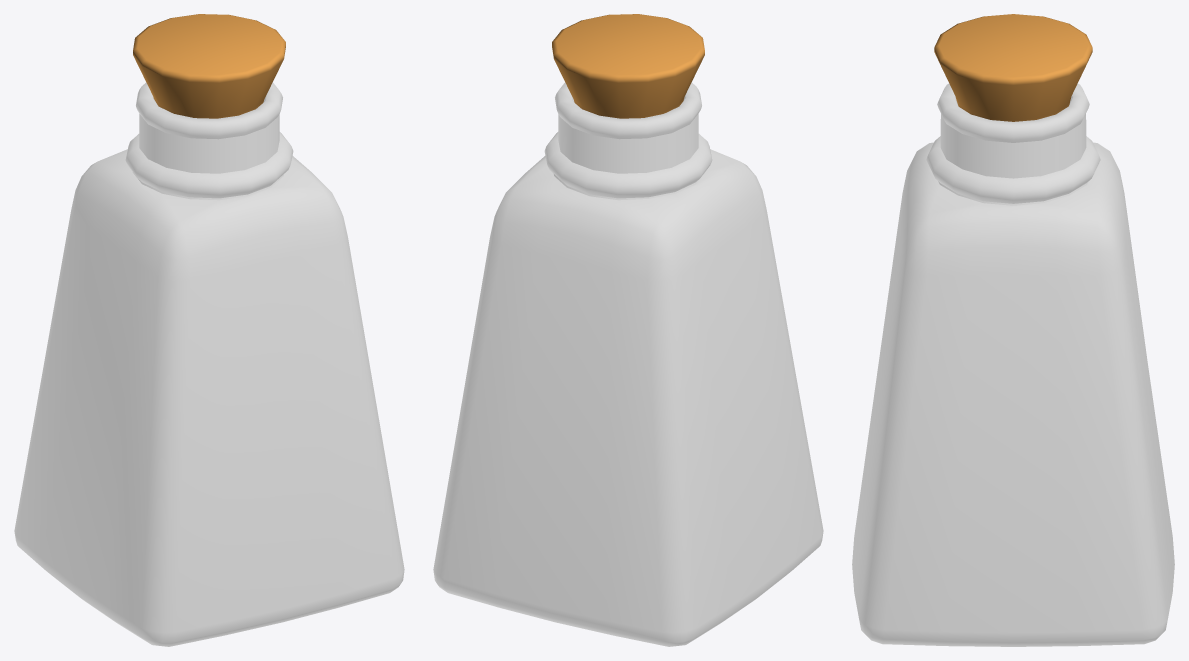
File: filledInkBottleWithCorkV1.gltf
The picture shows the model from 3 angles, left to right: view 1: azimuth 30°, elevation 25°; view 2: azimuth 150°, elevation 25°; view 3: azimuth 270°, elevation 25°; orthographic projection. The views are drawn at different scales.
Visible parts, largest first — view 1: Cube, Circle; view 2: Cube, Circle; view 3: Cube, Circle.
Part boxes in pixels (x1=…): Cube: x1=14, y1=82, x2=404, y2=646; Circle: x1=133, y1=14, x2=285, y2=118; Cube: x1=433, y1=82, x2=823, y2=646; Circle: x1=552, y1=14, x2=704, y2=118; Cube: x1=852, y1=83, x2=1174, y2=646; Circle: x1=934, y1=14, x2=1092, y2=121.
Size of the model in its own units: 2.3 by 4.25 by 2.3.
